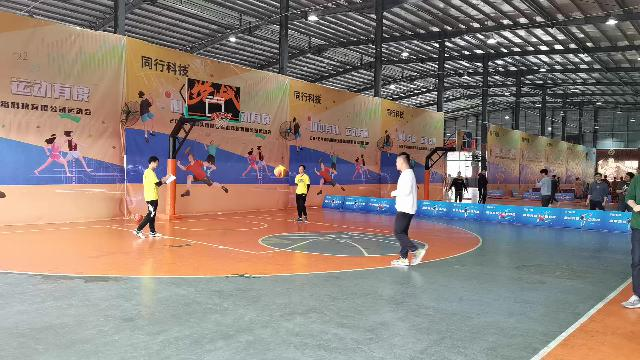ball: (273, 164, 287, 178), (132, 212, 142, 222)
basket: (212, 110, 232, 127)
